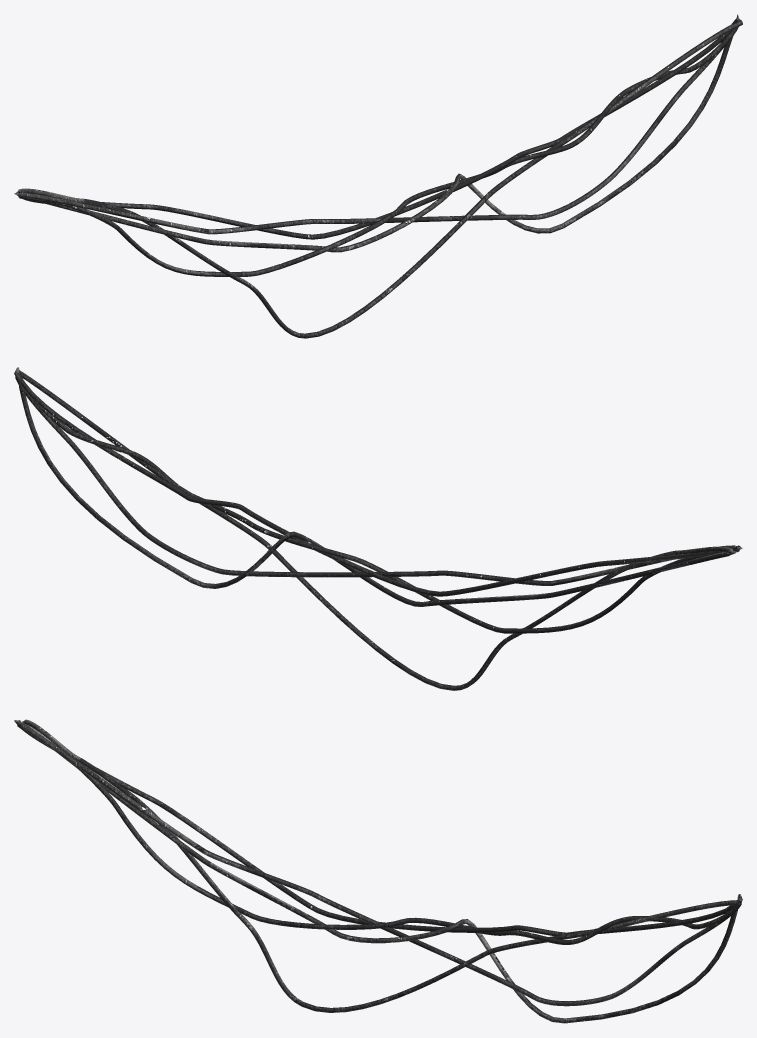
The model's file is Cable1.fbx.
3 renders of one model, top to bottom at view 1: azimuth 30°, elevation 25°; view 2: azimuth 150°, elevation 25°; view 3: azimuth 330°, elevation 25°, orthographic.
Parts seen in each view (by area): view 1: Wire; view 2: Wire; view 3: Wire.
Boxes of the visible parts, x1=… form: Wire: x1=14, y1=14, x2=742, y2=338; Wire: x1=14, y1=367, x2=742, y2=690; Wire: x1=14, y1=719, x2=742, y2=1023.
Bounding box in the file's own units: 8968 × 2574 × 258.
